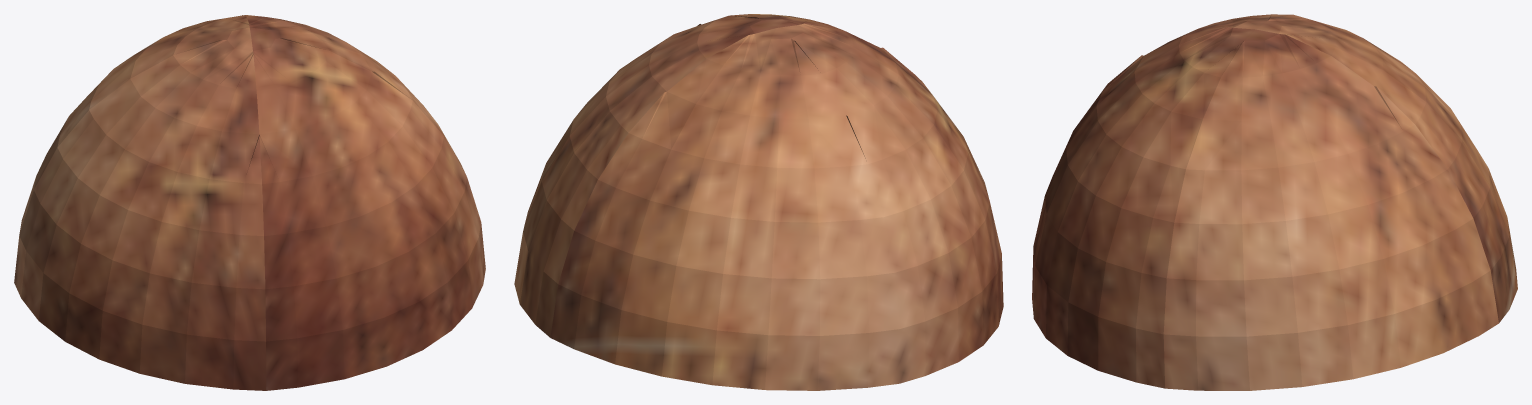
File: CocoNut.fbx
3 renders of one model, left to right at view 1: azimuth 30°, elevation 25°; view 2: azimuth 150°, elevation 25°; view 3: azimuth 270°, elevation 25°, orthographic. The views are drawn at different scales.
Parts seen in each view (by area): view 1: COCONUT; view 2: COCONUT; view 3: COCONUT.
Boxes of the visible parts, x1=… form: COCONUT: x1=14, y1=15, x2=485, y2=390; COCONUT: x1=514, y1=14, x2=1003, y2=390; COCONUT: x1=1032, y1=14, x2=1517, y2=390.
Size of the model in its own units: 27.02 by 17.02 by 26.97.
